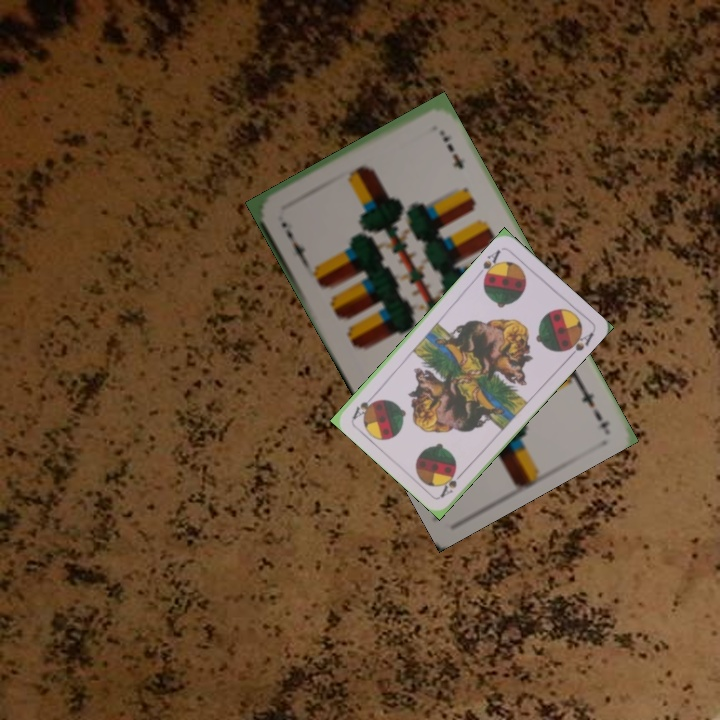E7: (572, 376, 605, 424), (277, 217, 309, 266)
SA: (473, 245, 503, 283), (436, 466, 467, 500)
